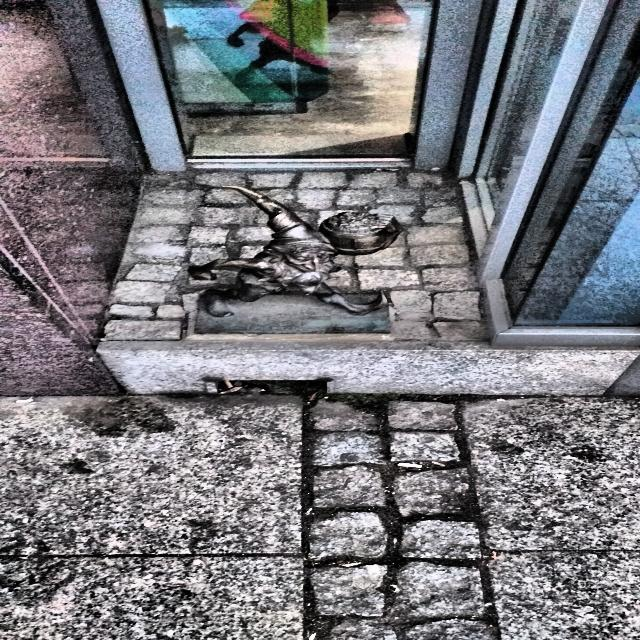Leprykonus: (168, 179, 412, 326)
